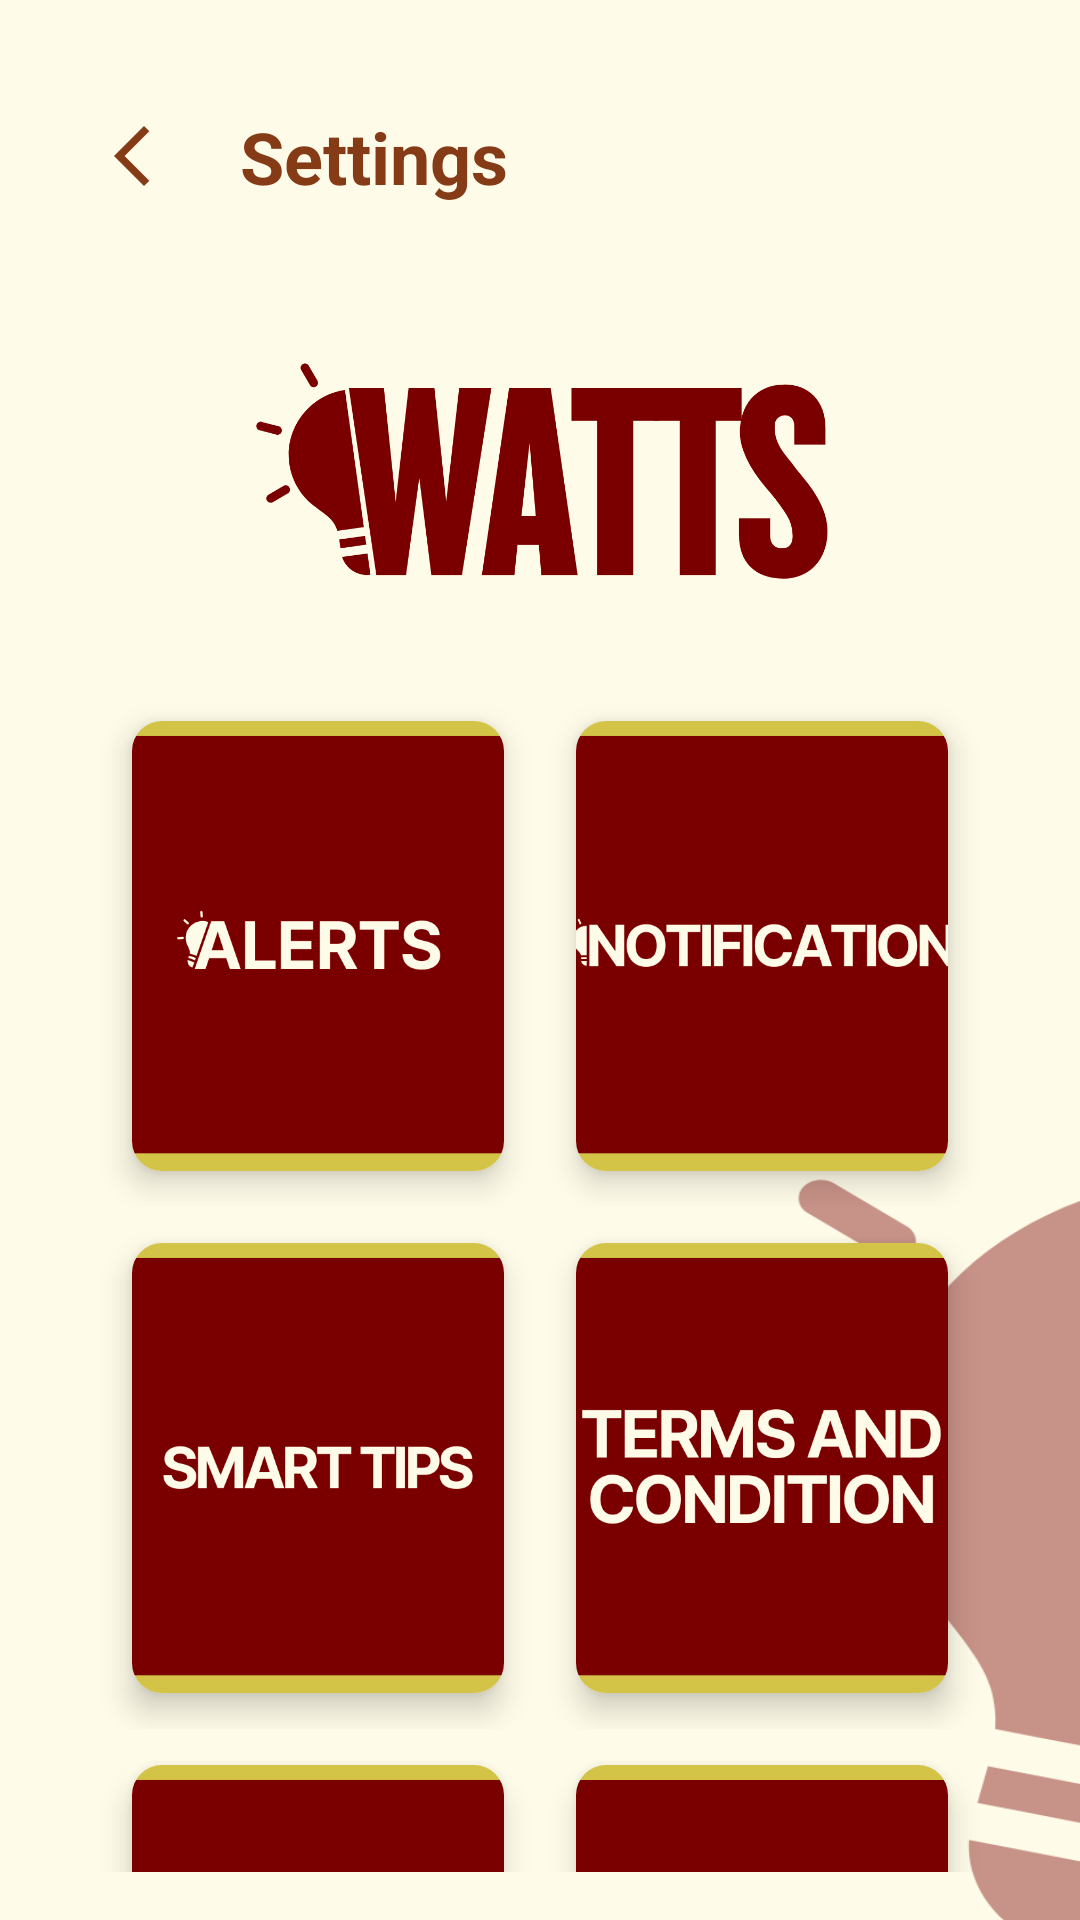

Icons on this 1080×1920 Android screen, each with its box as bbox(x1, y1, x2, y2):
Back to dashboard: bbox(114, 126, 149, 186)
